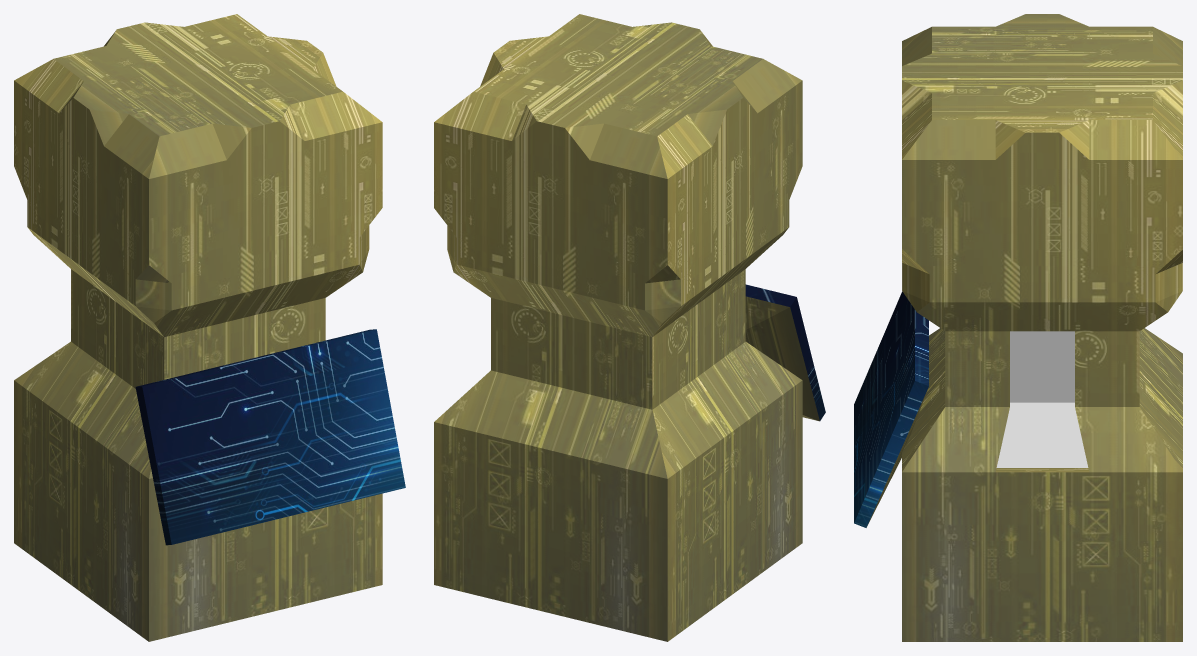
Rendered from Block07.fbx.
3 views of the same model, side by side, from view 1: azimuth 30°, elevation 25°; view 2: azimuth 150°, elevation 25°; view 3: azimuth 270°, elevation 25° (orthographic). The views are drawn at different scales.
Visible parts, largest first — view 1: Cube.006; view 2: Cube.006; view 3: Cube.006.
Part boxes in pixels (left/top/right/bottom): Cube.006: left=14, top=14, right=405, bottom=641; Cube.006: left=434, top=14, right=825, bottom=641; Cube.006: left=854, top=14, right=1182, bottom=641.
Size of the model in its own units: 201 by 234 by 400.
